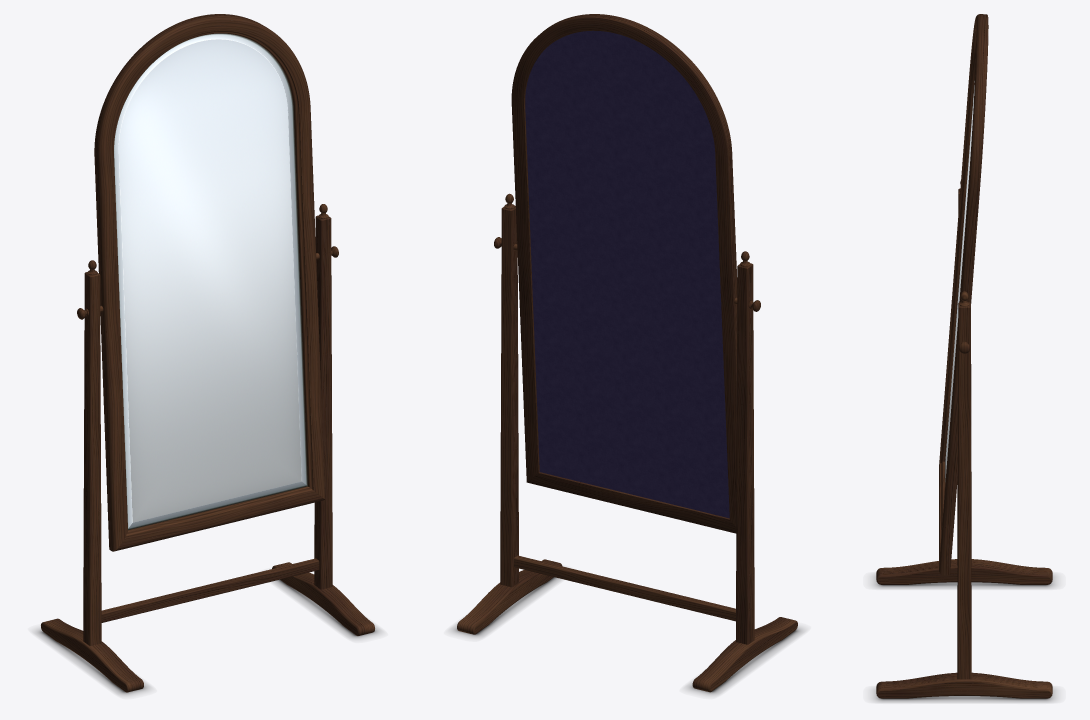
File: mirror.glb
3 views of the same model, side by side, from view 1: azimuth 30°, elevation 25°; view 2: azimuth 150°, elevation 25°; view 3: azimuth 270°, elevation 25° (orthographic).
Parts seen in each view (by area): view 1: mirror; view 2: mirror; view 3: mirror.
Boxes of the visible parts, box(x1,y1,x2,y2) form: mirror: box(35, 14, 380, 695); mirror: box(451, 14, 803, 694); mirror: box(873, 14, 1055, 702).
Size of the model in its own units: 0.8426 by 1.76 by 0.58.
Materials: 5 (5 with a texture image).
